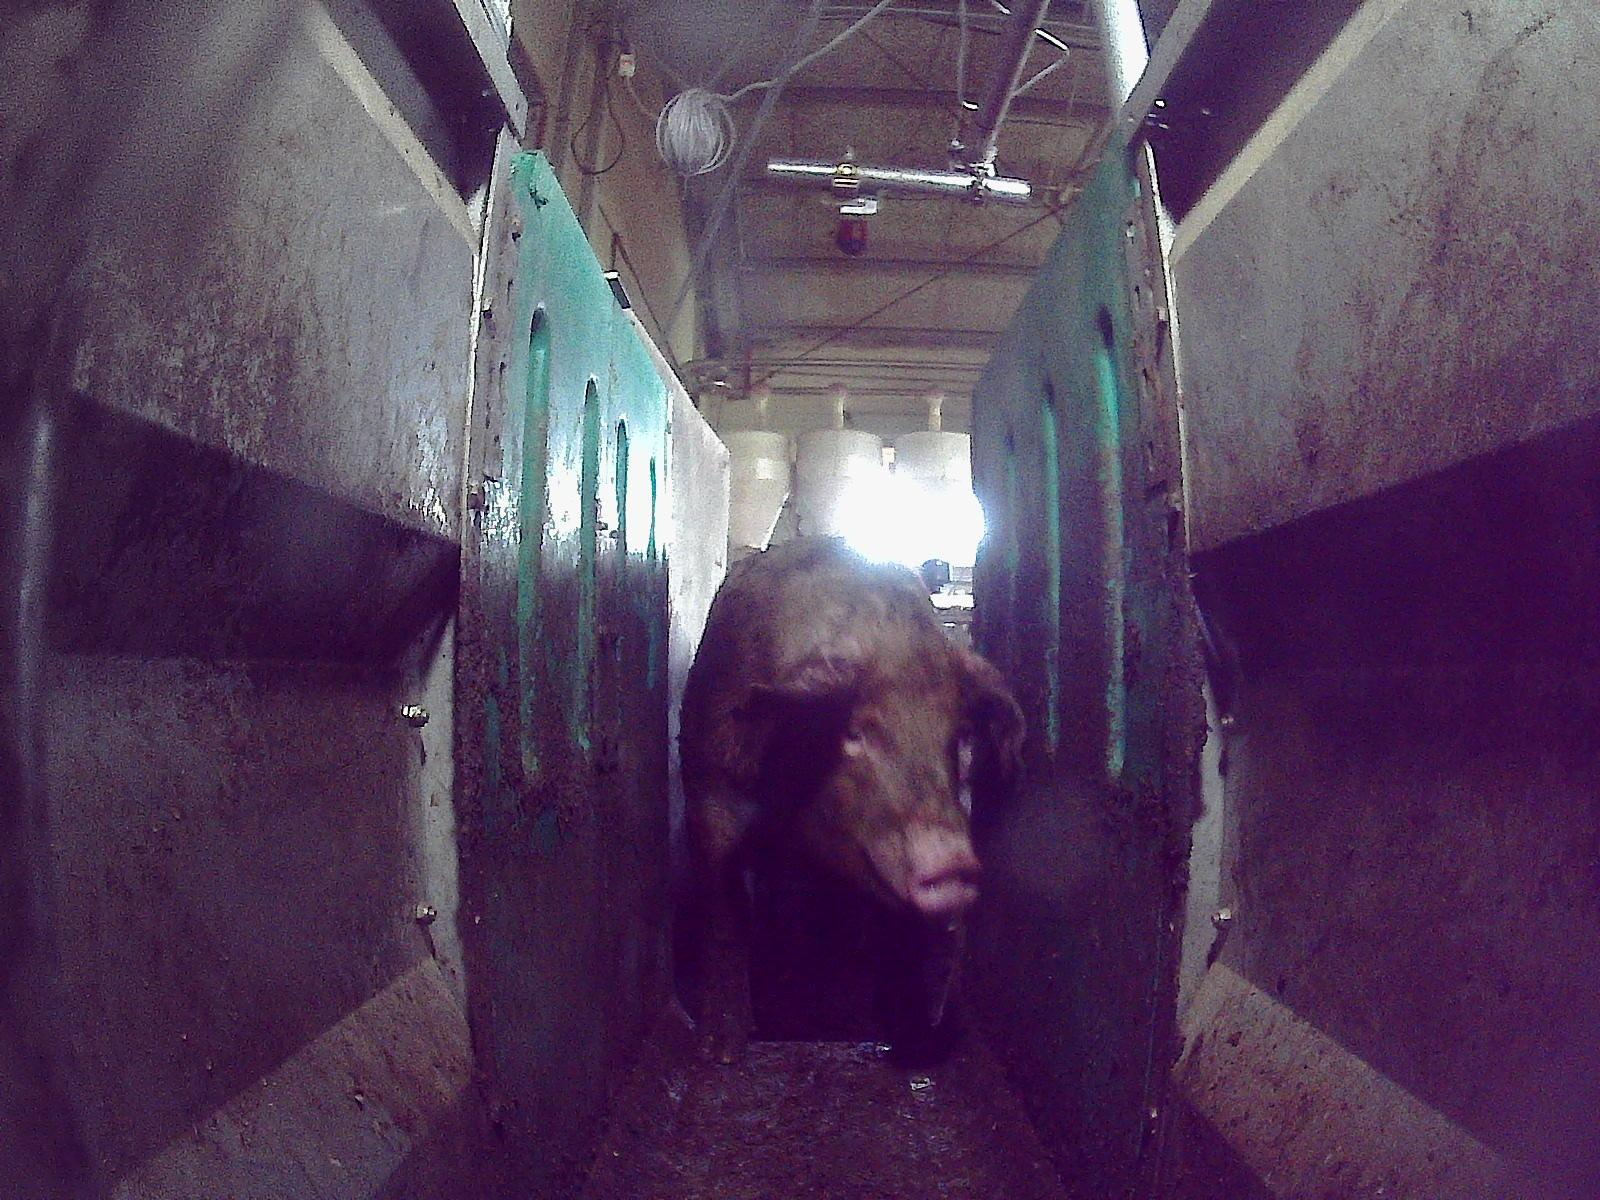Face: (774, 620, 985, 913)
